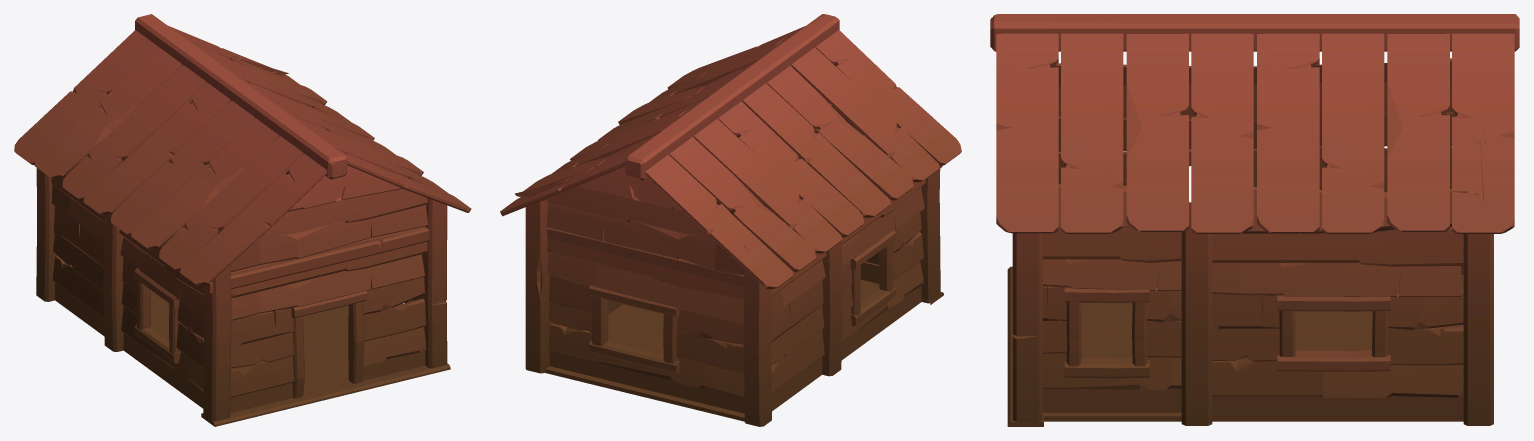
The picture shows the model from 3 angles, left to right: view 1: azimuth 30°, elevation 25°; view 2: azimuth 150°, elevation 25°; view 3: azimuth 270°, elevation 25°; orthographic projection. The views are drawn at different scales.
Parts seen in each view (by area): view 1: WoodenHouse3; view 2: WoodenHouse3; view 3: WoodenHouse3.
Boxes of the visible parts, x1,y1,x2,y2 form: WoodenHouse3: [14, 14, 471, 426]; WoodenHouse3: [500, 14, 961, 426]; WoodenHouse3: [990, 14, 1519, 426].
Size of the model in its own units: 7.66 by 6.47 by 9.39.
Materials: 1 (1 with a texture image).
